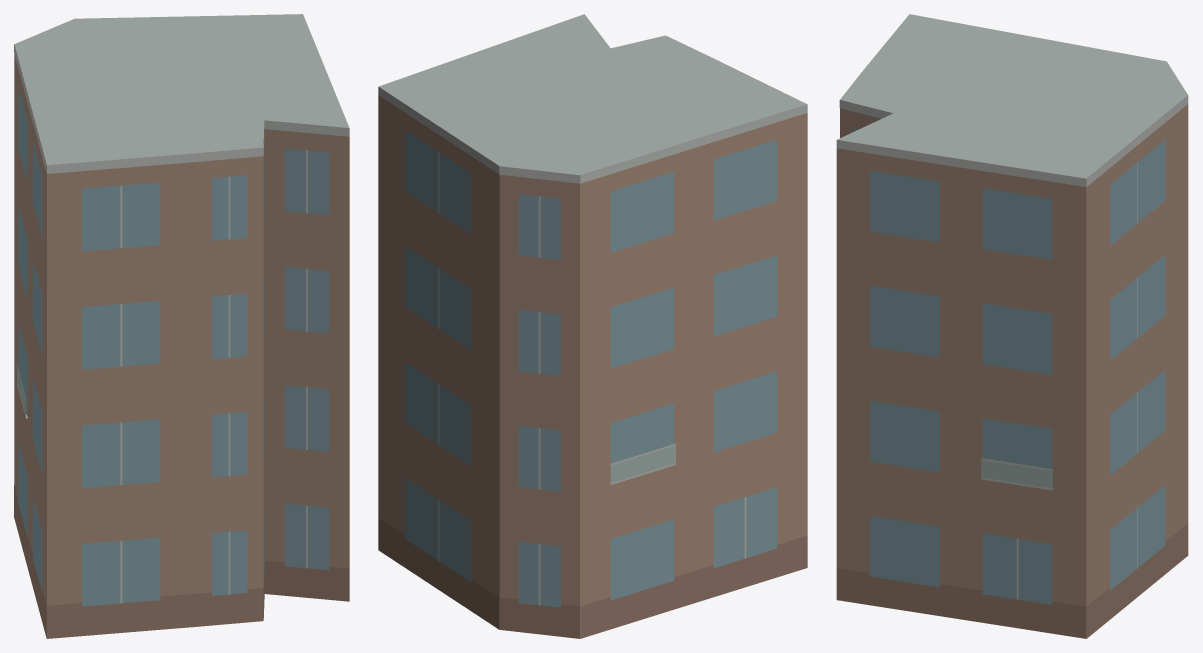
Rendered from survey-upis-32462879.glb.
The picture shows the model from 3 angles, left to right: view 1: azimuth 30°, elevation 25°; view 2: azimuth 150°, elevation 25°; view 3: azimuth 270°, elevation 25°; orthographic projection. The views are drawn at different scales.
Parts seen in each view (by area): view 1: survey-upis-32462879.tmp; view 2: survey-upis-32462879.tmp; view 3: survey-upis-32462879.tmp.
Boxes of the visible parts, x1,y1,x2,y2 form: survey-upis-32462879.tmp: (14, 14, 349, 638); survey-upis-32462879.tmp: (378, 14, 807, 638); survey-upis-32462879.tmp: (836, 14, 1188, 638).
Bounding box in the file's own units: 10.22 × 13.3 × 9.22.
